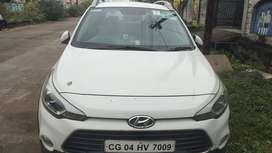CG04HV7009: (103, 139, 174, 152)
